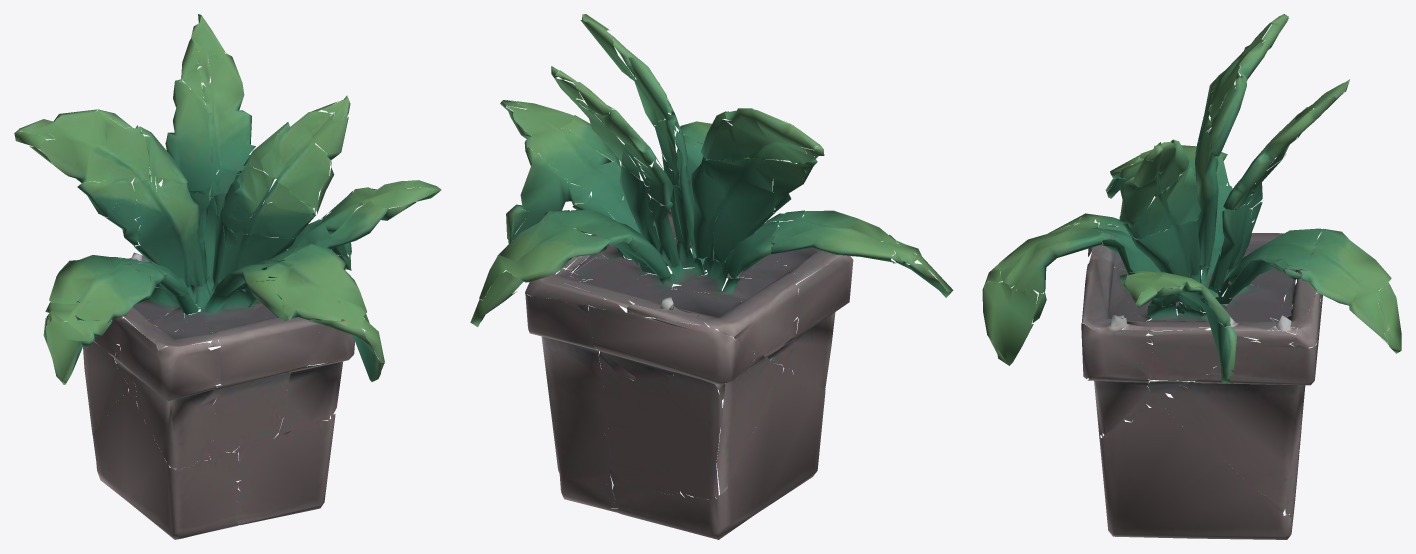
File: green11.glb
3 views of the same model, side by side, from view 1: azimuth 30°, elevation 25°; view 2: azimuth 150°, elevation 25°; view 3: azimuth 270°, elevation 25° (orthographic). The views are drawn at different scales.
Visible parts, largest first — view 1: tripo_node_f030123f-40ff-4bff-bfb6-fec803a5a417; view 2: tripo_node_f030123f-40ff-4bff-bfb6-fec803a5a417; view 3: tripo_node_f030123f-40ff-4bff-bfb6-fec803a5a417.
Part boxes in pixels (x1,y1,x2,y2): tripo_node_f030123f-40ff-4bff-bfb6-fec803a5a417: (14,14,441,539); tripo_node_f030123f-40ff-4bff-bfb6-fec803a5a417: (470,14,953,539); tripo_node_f030123f-40ff-4bff-bfb6-fec803a5a417: (982,14,1401,539).
Bounding box in the file's own units: 0.9895 × 0.9985 × 0.8411.
1 material, 1 textured.
